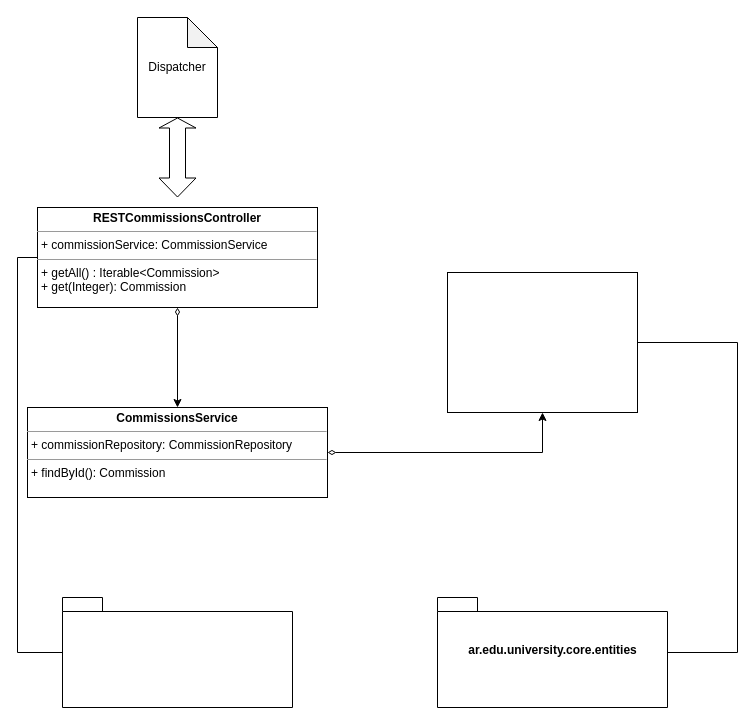
Some shapes in this 756 by 725 pixel diagram are drawn without their labels. The box of each missing label's shape, as (x1, y1, x2, y2) in pixels:
<<Interface>> CommissionsRepository + findById(Integer): Commission: (446, 272, 638, 412)
ar.edu.university.core.rest.exceptions (RuntimeExceptions): (62, 596, 292, 708)
